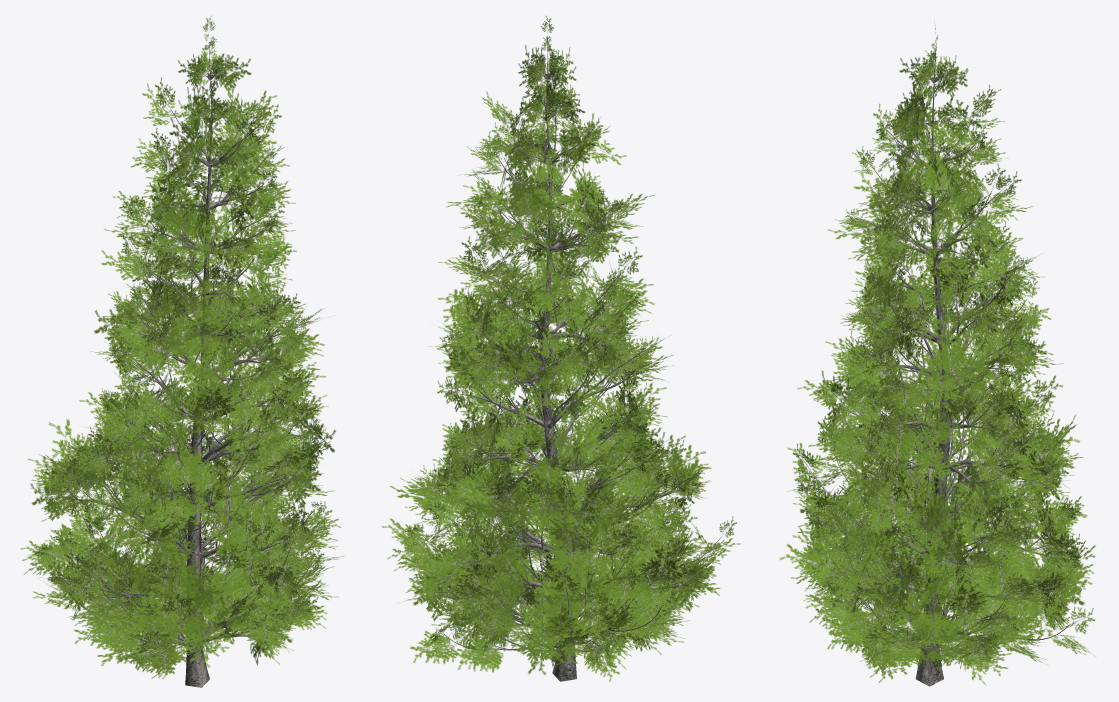
Rendered from pine.glb.
The picture shows the model from 3 angles, left to right: view 1: azimuth 30°, elevation 25°; view 2: azimuth 150°, elevation 25°; view 3: azimuth 270°, elevation 25°; orthographic projection.
Parts seen in each view (by area): view 1: Evergreen tree 3 medium size; view 2: Evergreen tree 3 medium size; view 3: Evergreen tree 3 medium size.
Boxes of the visible parts, x1=… form: Evergreen tree 3 medium size: x1=20, y1=15, x2=343, y2=687; Evergreen tree 3 medium size: x1=381, y1=16, x2=740, y2=681; Evergreen tree 3 medium size: x1=779, y1=25, x2=1095, y2=686.
Bounding box in the file's own units: 4.96 × 10.04 × 4.47.
Materials: 2 (2 with a texture image).
